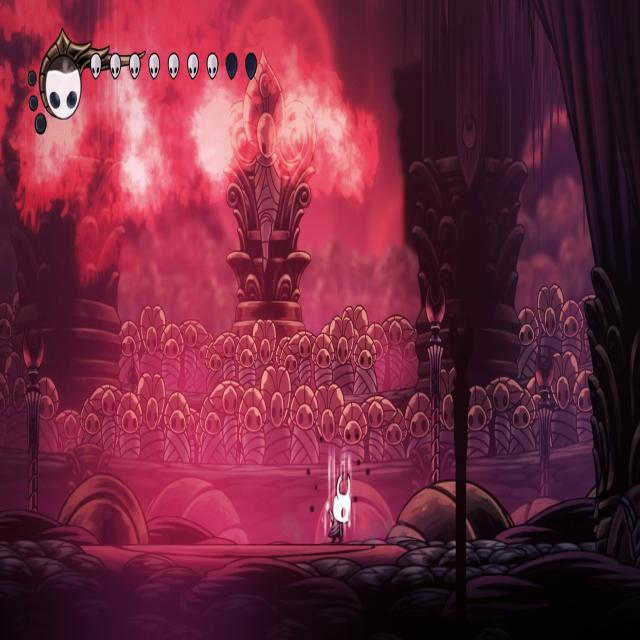Fireball: (279, 77, 369, 195), (104, 69, 170, 225), (183, 75, 249, 199), (19, 85, 87, 202)
Player: (324, 464, 354, 545)
